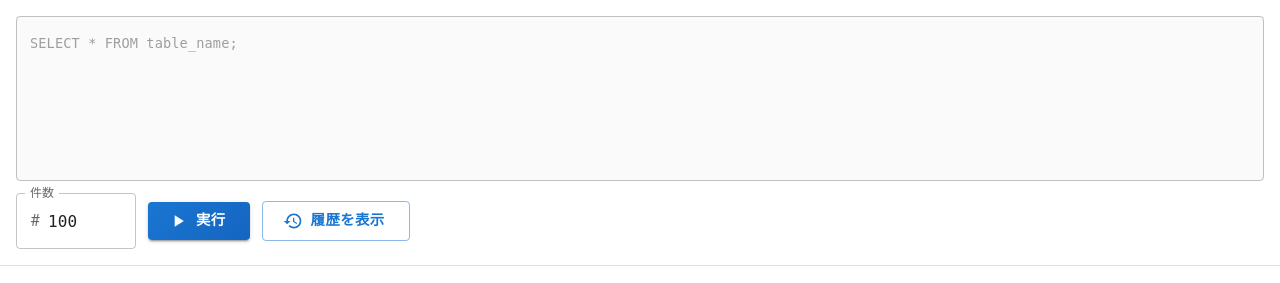
QueryEditor › rejects negative limit input
Step 1. Replace the text in the field labelled "件数" with "-5" → {"x": 92, "y": 221}, box [48,193,136,249]
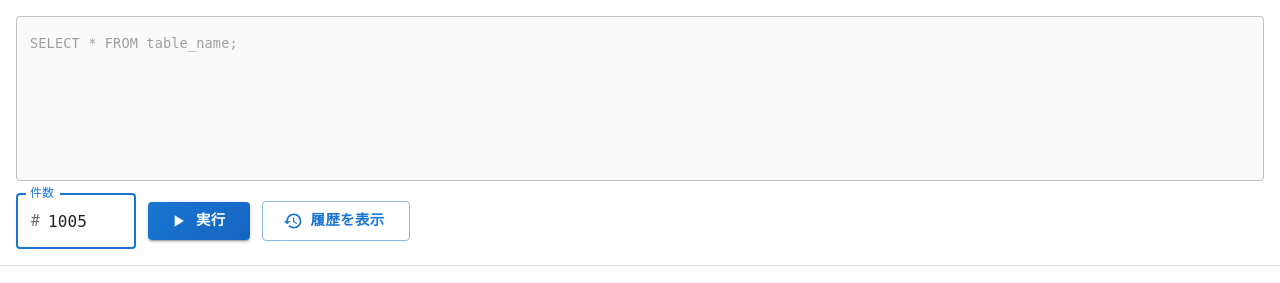
Expected: the field labelled "件数" does not hold "-5", [48,193,136,249]
